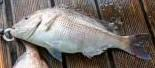fish: (10, 4, 151, 60)
